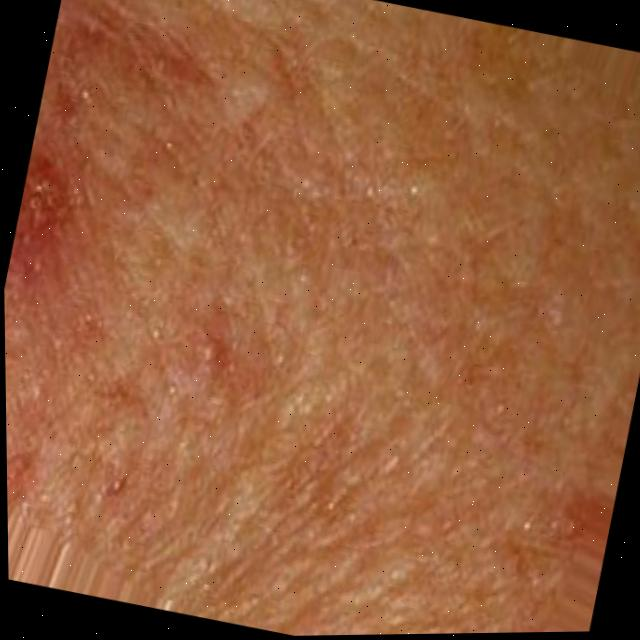Rosacea: (5, 167, 66, 281)
